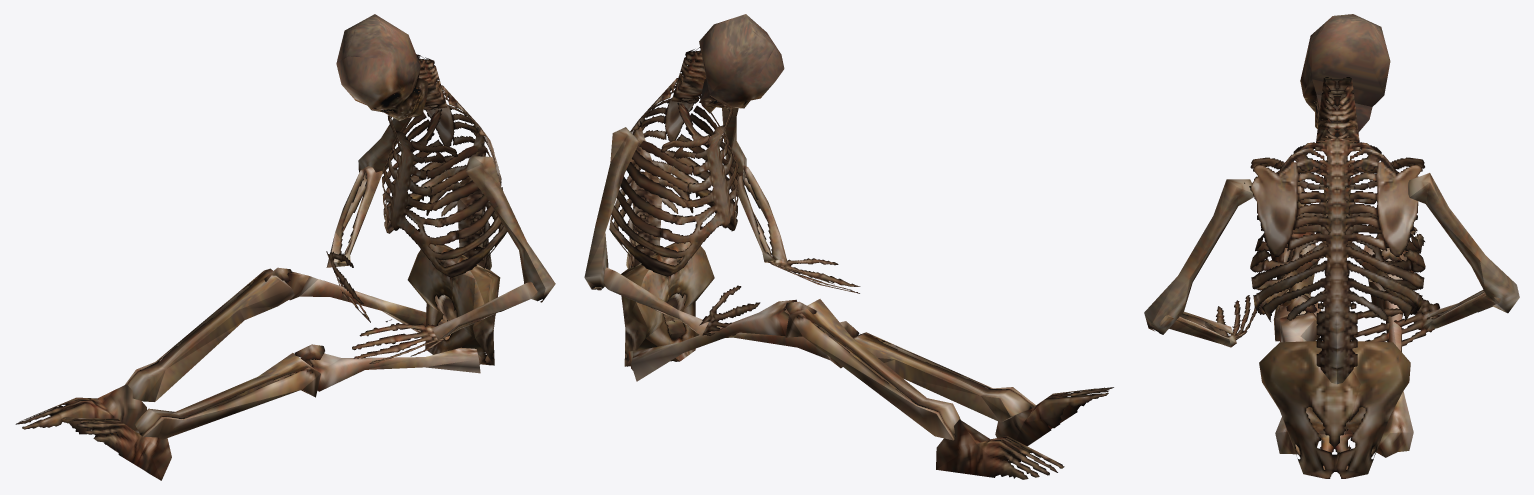
Rendered from skelet3.obj.
The picture shows the model from 3 angles, left to right: view 1: azimuth 30°, elevation 25°; view 2: azimuth 150°, elevation 25°; view 3: azimuth 270°, elevation 25°; orthographic projection. The views are drawn at different scales.
Visible parts, largest first — view 1: Group; view 2: Group; view 3: Group.
Boxes of the visible parts, x1=… form: Group: x1=15, y1=14, x2=555, y2=480; Group: x1=584, y1=14, x2=1113, y2=479; Group: x1=1144, y1=14, x2=1519, y2=478.
Size of the model in its own units: 43.17 by 35.18 by 27.71.
